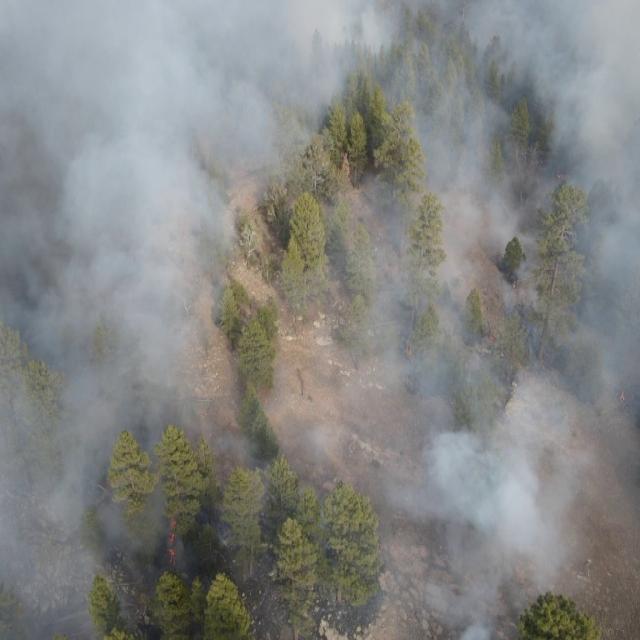fire: (162, 513, 190, 569), (398, 338, 421, 363), (612, 383, 634, 408), (486, 328, 504, 349), (552, 166, 568, 184)
smoke: (263, 271, 640, 639), (262, 0, 640, 270), (0, 0, 154, 640), (154, 0, 262, 458), (153, 460, 264, 560)
